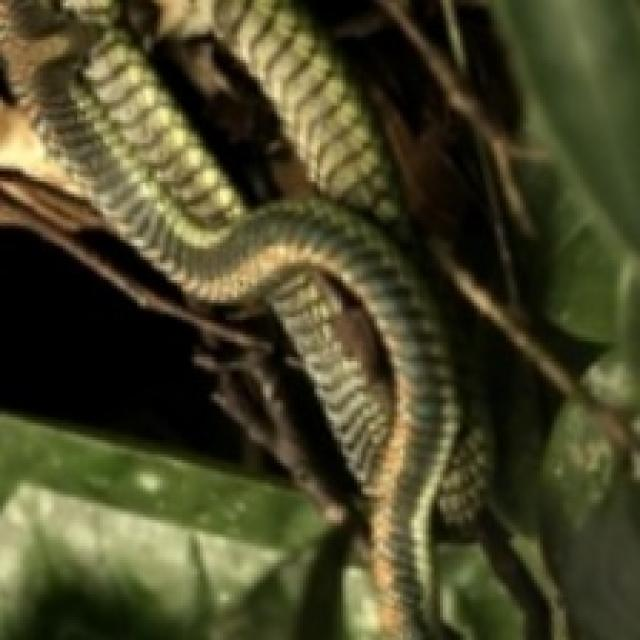paradise tree snake: (0, 0, 460, 637)
